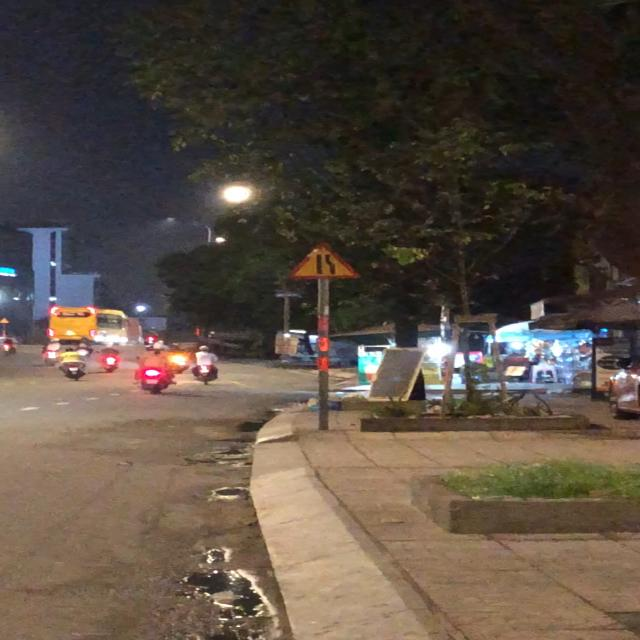Bien bao duong bi thu hep: (275, 237, 360, 281)
